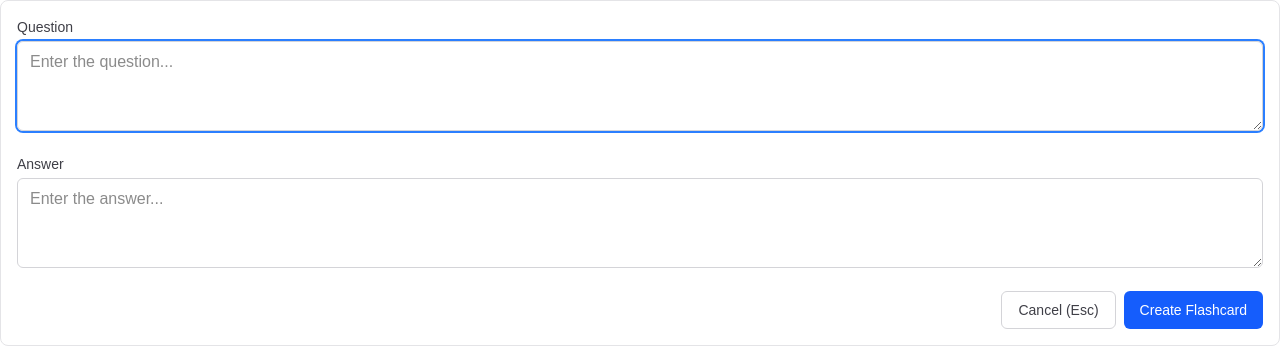
Test case: Form Validation Tests › FlashcardForm Validation › should disable inputs while submitting
Type "Question?" into the text box labelled "Question" at (640, 86), box 17,41 -> 1263,131
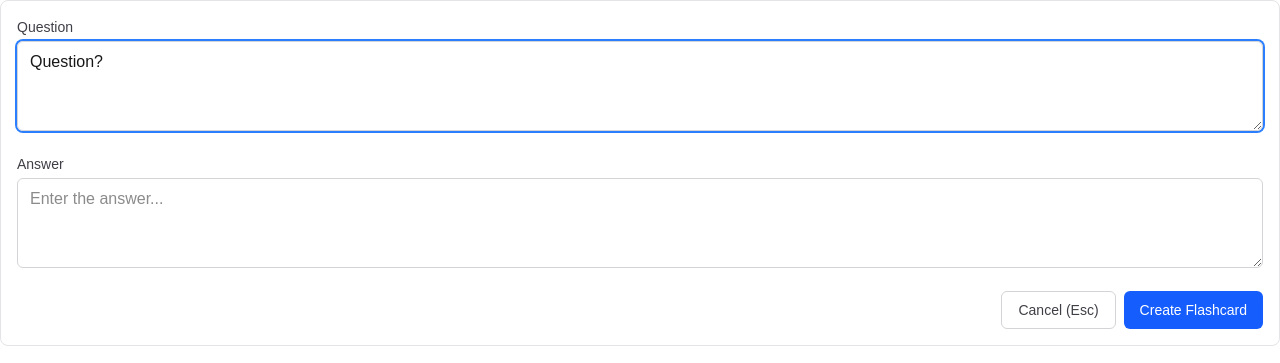
Type "Answer" into the text box labelled "Answer" at (640, 223), box 17,178 -> 1263,268
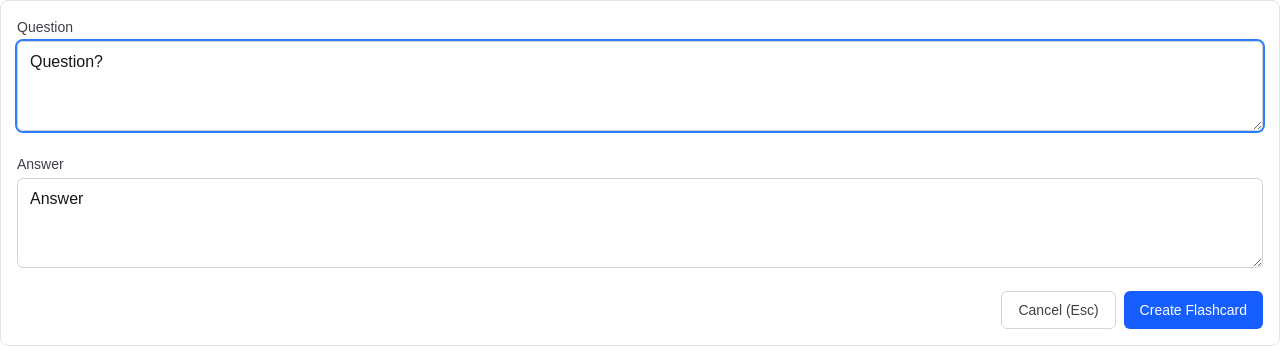
Click the button "Create Flashcard" at (1193, 310), box 1124,291 -> 1263,329
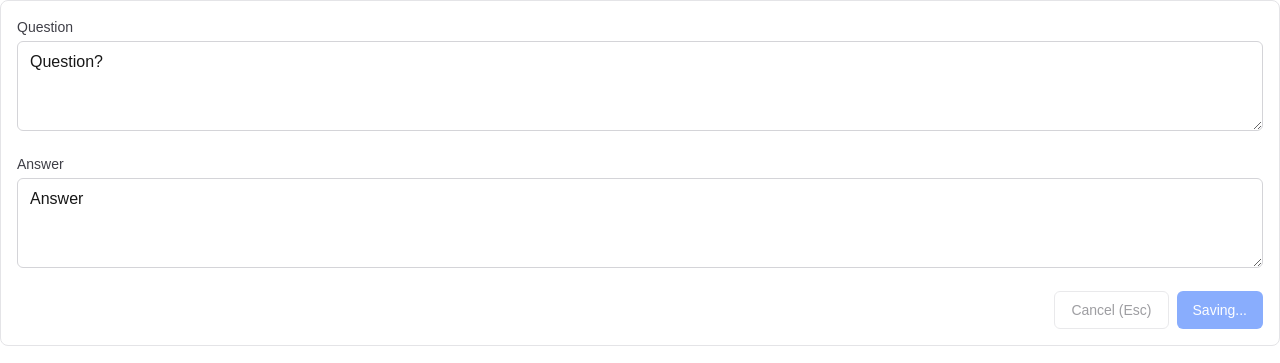
Expected: the text box labelled "Question" is disabled, 17,41 -> 1263,131
Expected: the button "Saving..." is shown, 1176,291 -> 1263,329
